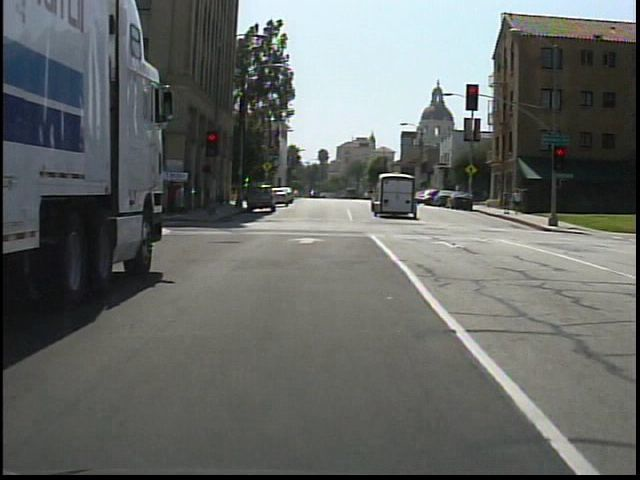person: (165, 173, 185, 218), (511, 187, 526, 216), (500, 187, 513, 217)
